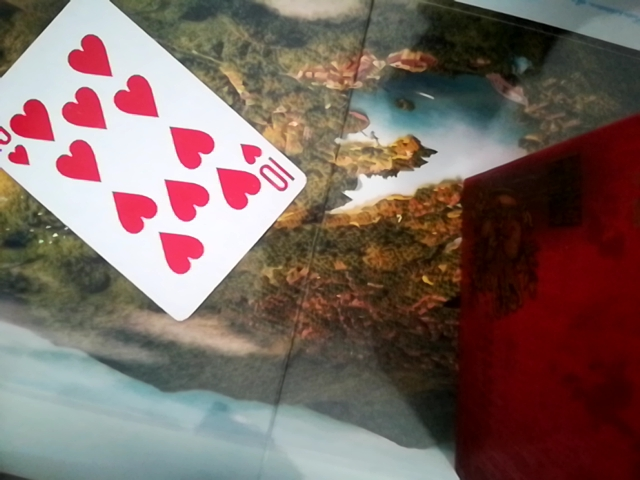hx 10: (0, 0, 303, 322)
